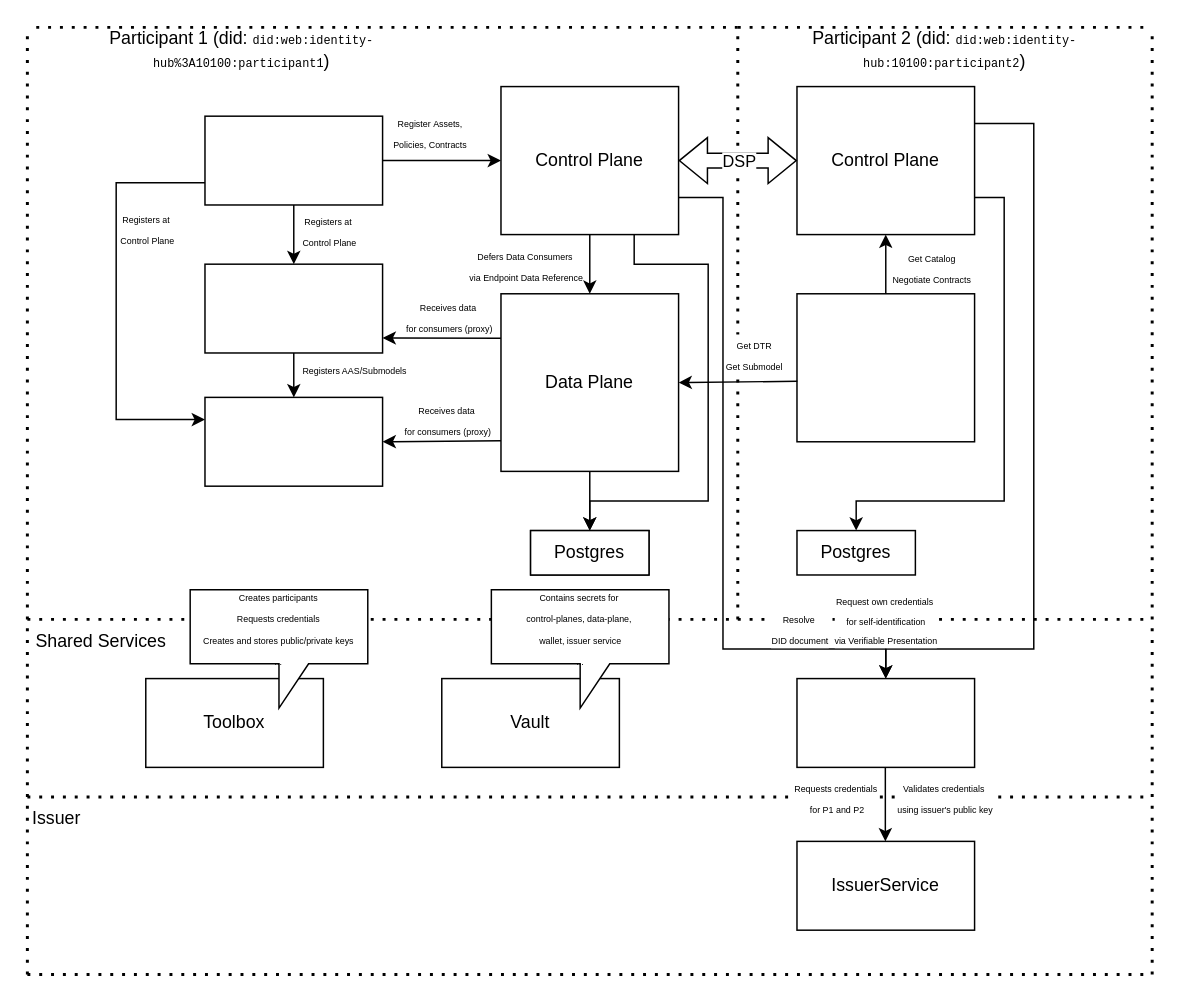
Some shapes in this 1180 by 1002 pixel diagram are drawn without their labels. Here are the shapes that lost their labels. From the top down, the centre of each, then its label:
(x=293, y=160): EDC Extension for AAS
(x=293, y=308): FA³ST Service
(x=885, y=367): cURL Bruno Postman
(x=293, y=441): FA³ST DTR
(x=885, y=722): IdentityHub "Wallet"
